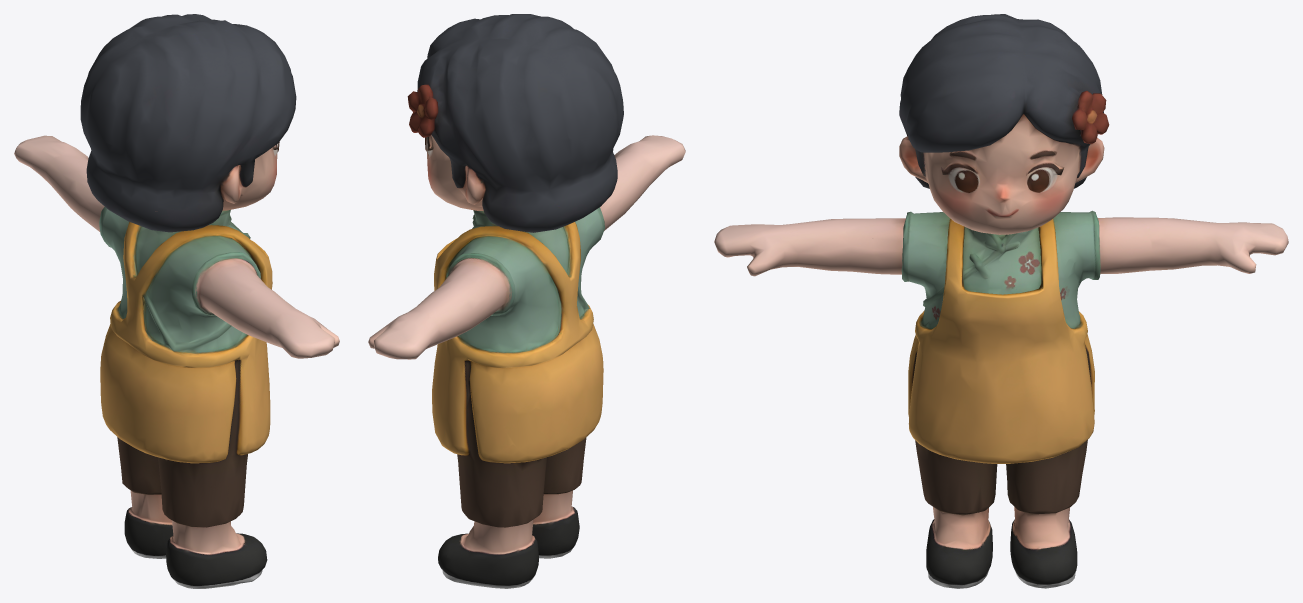
File: s3_staff_server_source.glb
The picture shows the model from 3 angles, left to right: view 1: azimuth 30°, elevation 25°; view 2: azimuth 150°, elevation 25°; view 3: azimuth 270°, elevation 25°; orthographic projection.
Visible parts, largest first — view 1: tripo_node_ad14867c-b561-4c41-814d-efa046361c22; view 2: tripo_node_ad14867c-b561-4c41-814d-efa046361c22; view 3: tripo_node_ad14867c-b561-4c41-814d-efa046361c22.
Boxes of the visible parts, bbox=[...] form: tripo_node_ad14867c-b561-4c41-814d-efa046361c22: bbox=[14, 14, 339, 588]; tripo_node_ad14867c-b561-4c41-814d-efa046361c22: bbox=[368, 14, 685, 588]; tripo_node_ad14867c-b561-4c41-814d-efa046361c22: bbox=[714, 14, 1288, 588].
Size of the model in its own units: 0.3551 by 1 by 0.9653.
Materials: 1 (1 with a texture image).
